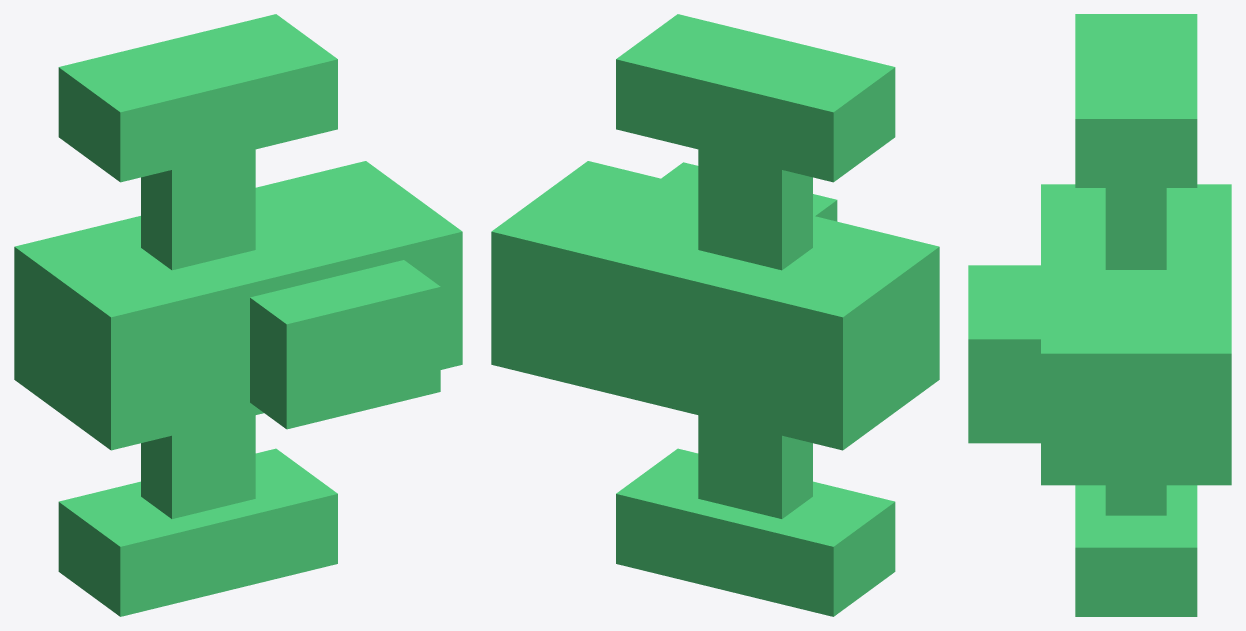
Rendered from mixed.gltf.
3 renders of one model, left to right at view 1: azimuth 30°, elevation 25°; view 2: azimuth 150°, elevation 25°; view 3: azimuth 270°, elevation 25°, orthographic.
Parts seen in each view (by area): view 1: animated; view 2: animated; view 3: animated.
Part boxes in pixels (left/top/right/bottom): animated: left=14, top=14, right=462, bottom=616; animated: left=491, top=14, right=939, bottom=616; animated: left=968, top=14, right=1231, bottom=616.
Bounding box in the file's own units: 1.05 × 1.44 × 0.69.
